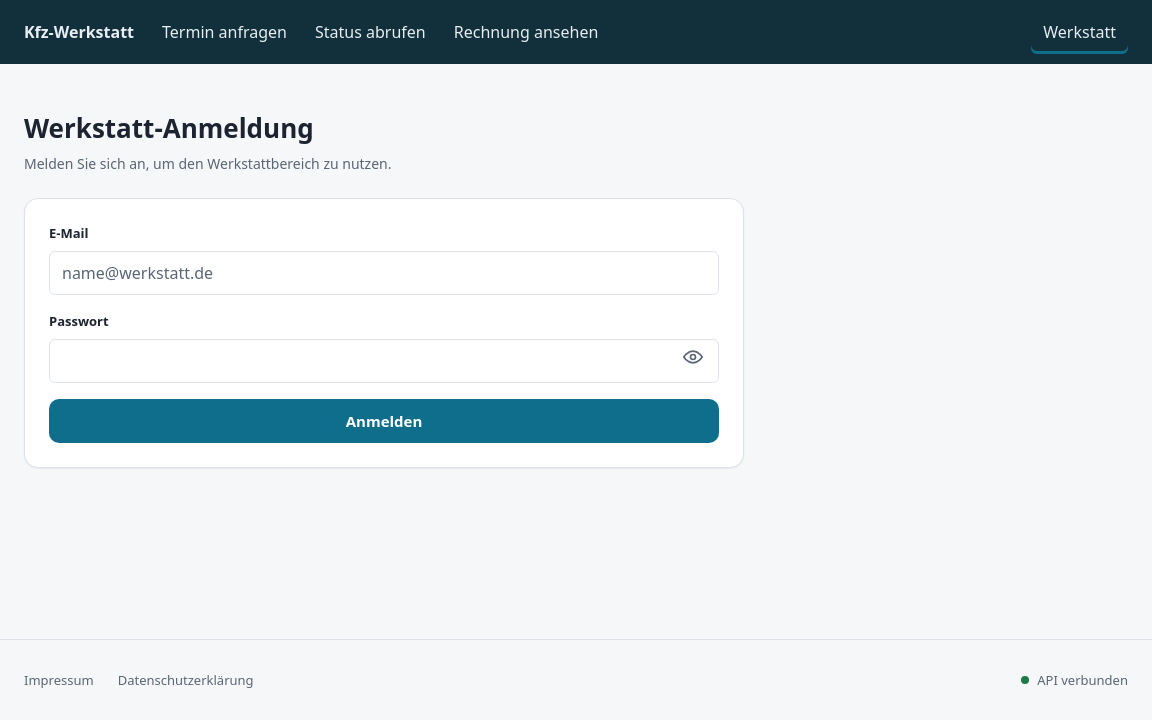
Test: LoginPage › starts neutral and only marks fields after a submit attempt
Check: the text "Bitte geben Sie eine gültige E-Mail-Adresse ein." is not shown
Check: the text "Bitte geben Sie Ihr Passwort ein." is not shown
Click the button "Anmelden": [384, 422] box [49,400,719,444]
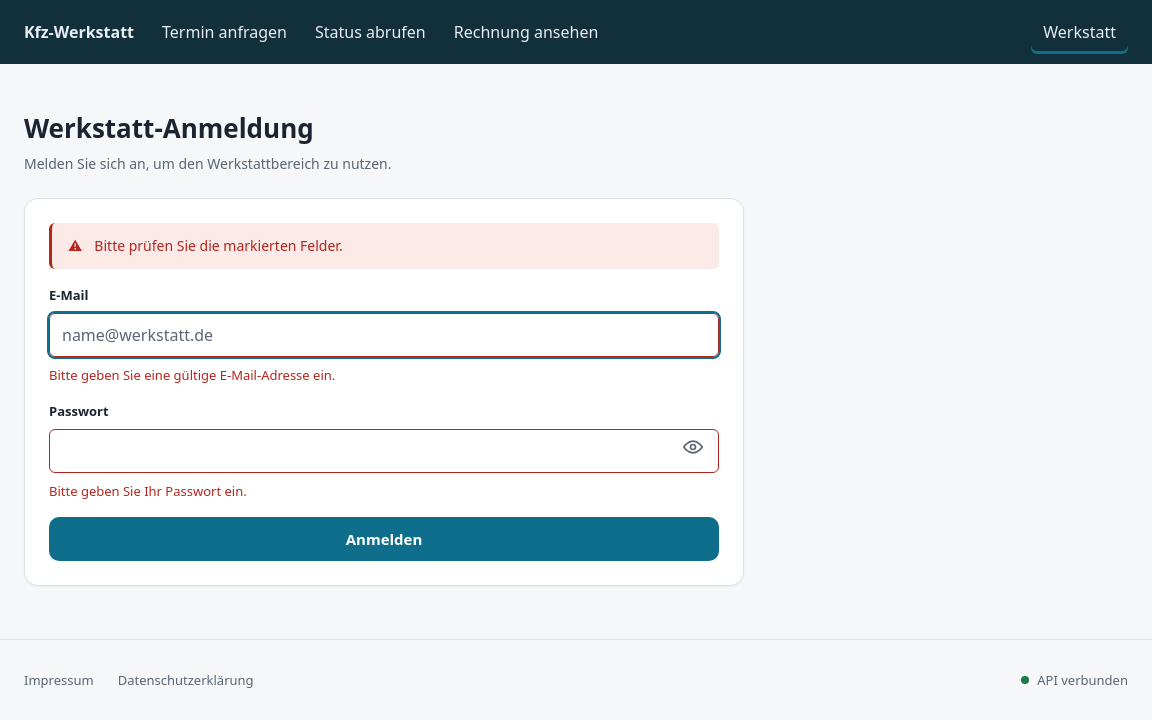
Check: the text "Bitte geben Sie eine gültige E-Mail-Adresse ein." is shown, box [49,366,335,384]
Check: the text "Bitte geben Sie Ihr Passwort ein." is shown, box [49,482,247,500]
